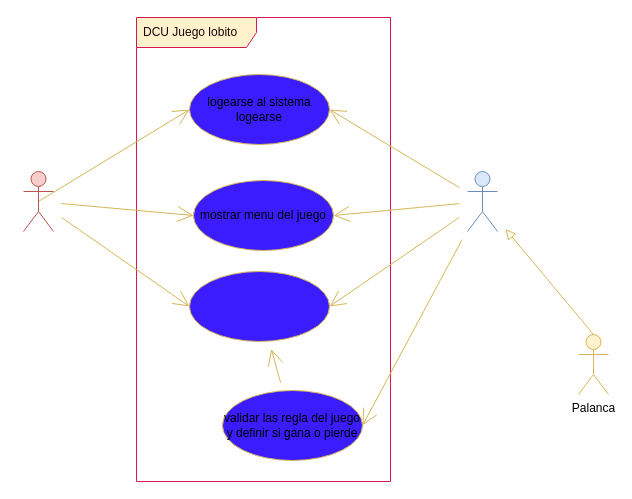
Some shapes in this 632 by 499 pixel diagram are drawn without their labels. The shapes that lost their labels are listed below. From the top down, each one's box as (x1, y1, x2, y2) in pixels, then its label:
(22, 170, 54, 232): Jugador
(466, 170, 498, 232): Juego
(188, 270, 330, 342): jugar el lobito
